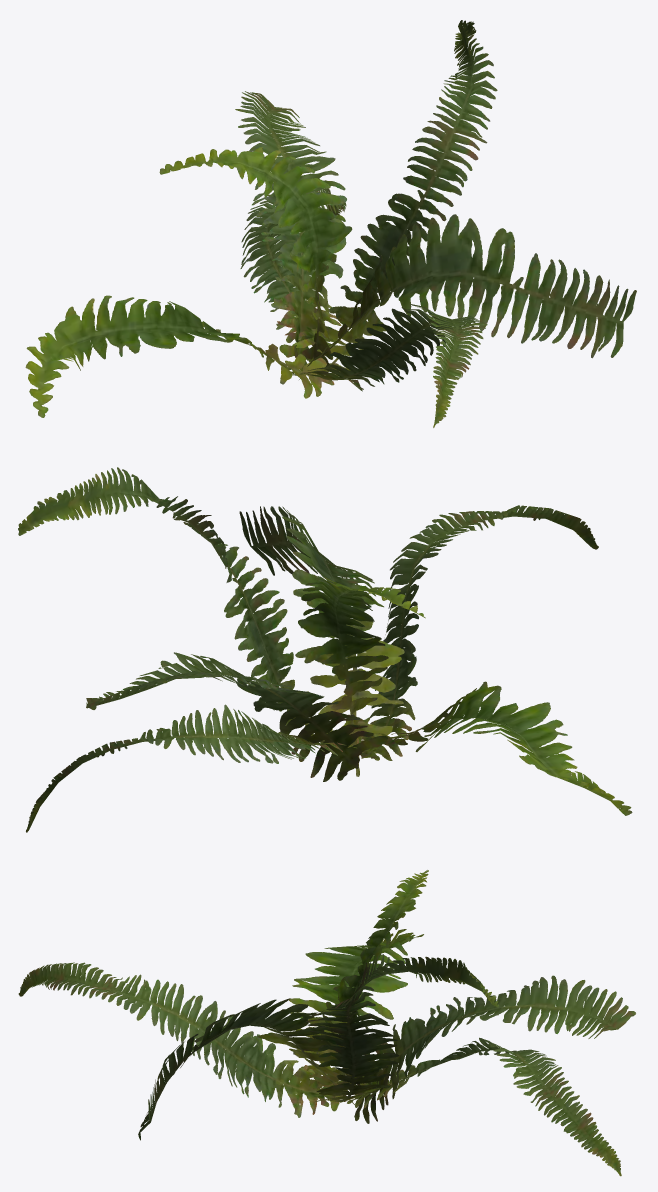
The model's file is fern.glb.
3 renders of one model, top to bottom at view 1: azimuth 30°, elevation 25°; view 2: azimuth 150°, elevation 25°; view 3: azimuth 270°, elevation 25°, orthographic. The views are drawn at different scales.
Bounding box in the file's own units: 0.5519 × 0.2868 × 0.6134.
Materials: 1 (1 with a texture image).
